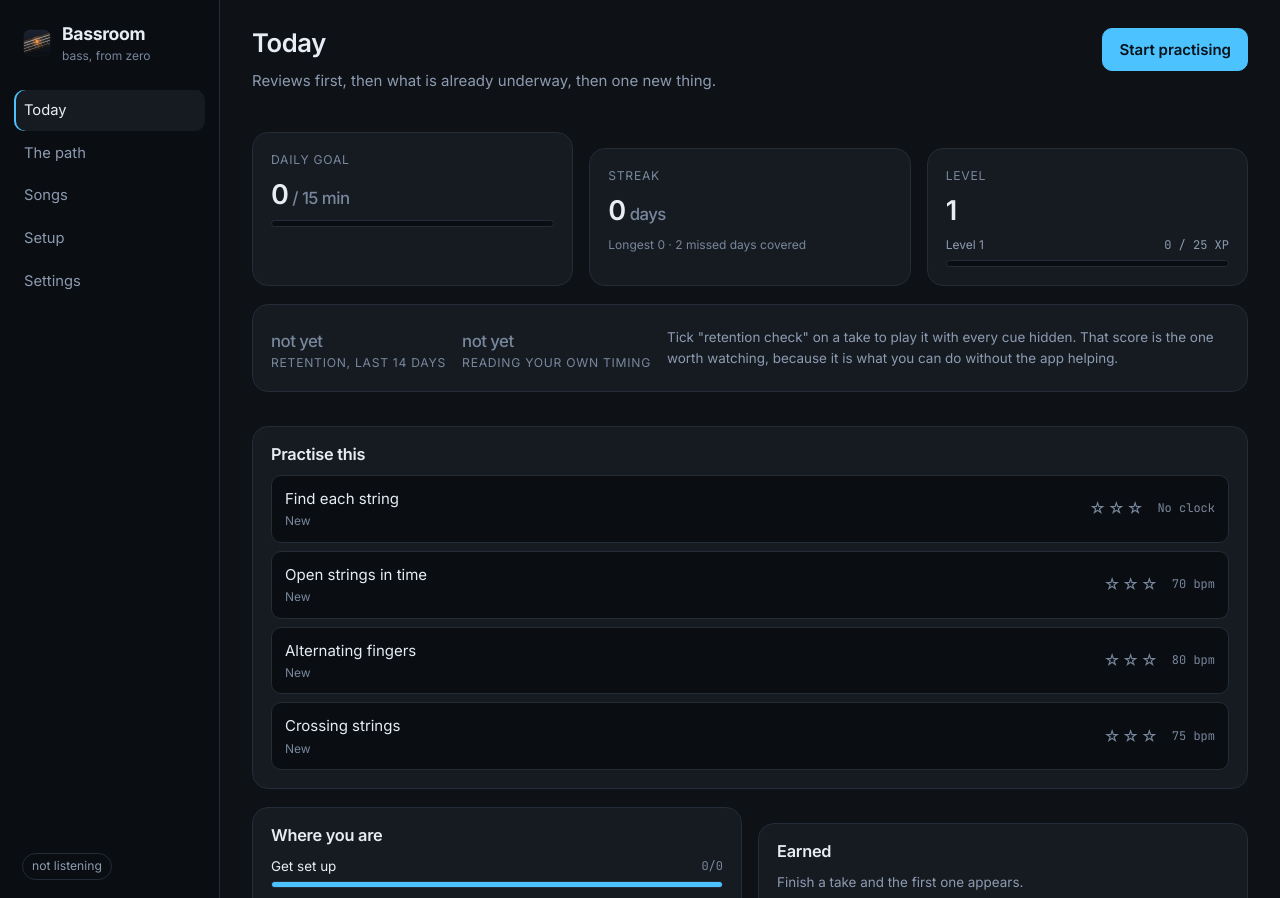
Test: navigation › opens Songs without crashing
The width and height of the screenshot is (1280, 898).
Click the button "Songs" at x=110, y=196, box [14, 176, 205, 216]
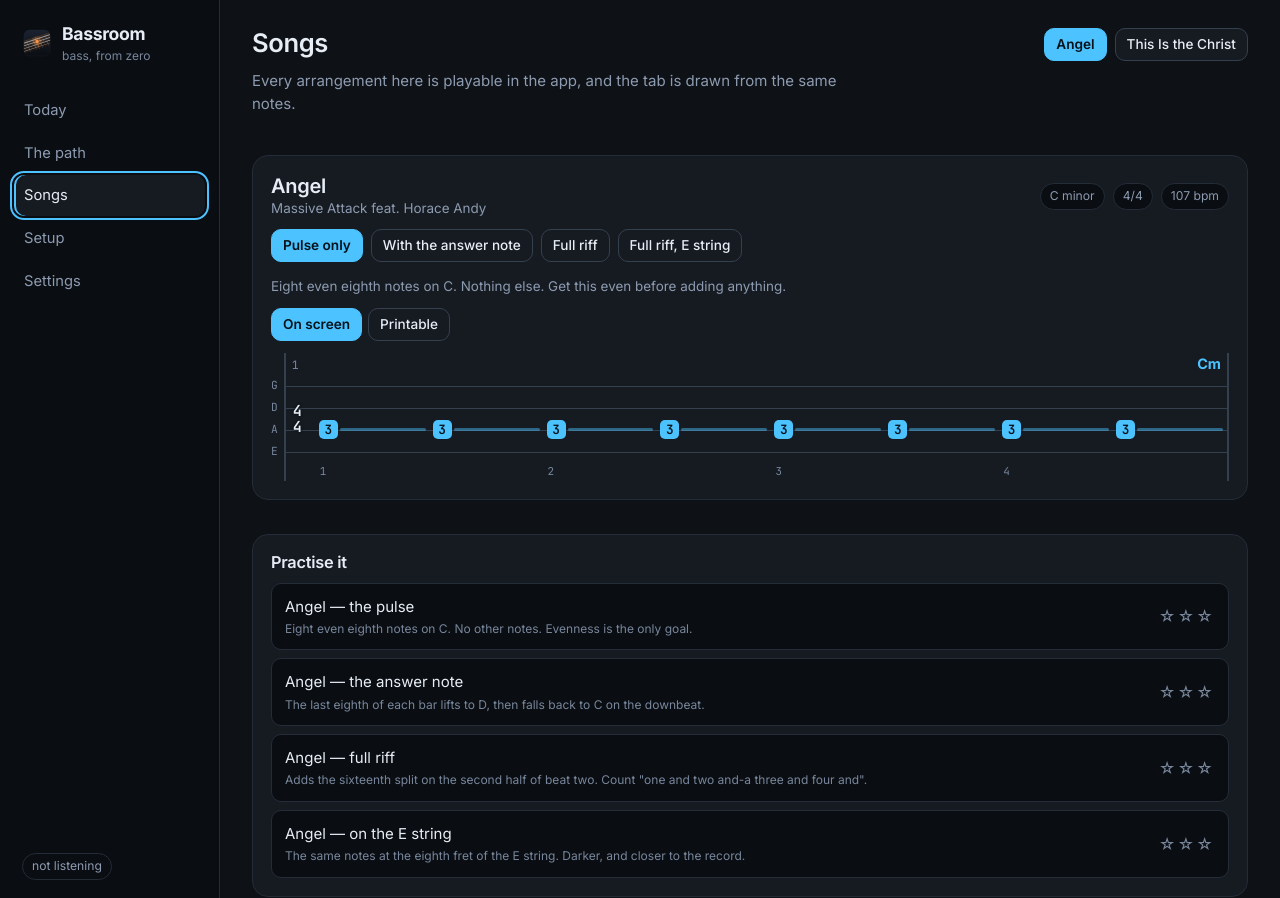
Expected: the heading "Songs" is shown, [252, 27, 328, 58]
